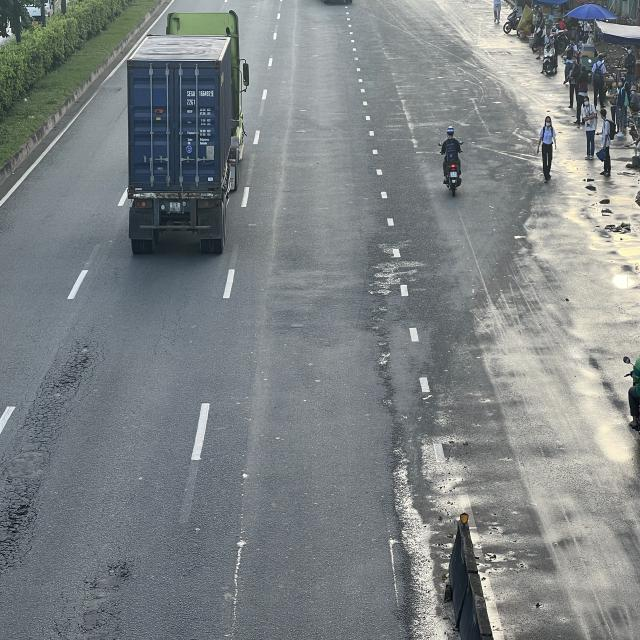container: (126, 9, 250, 258)
